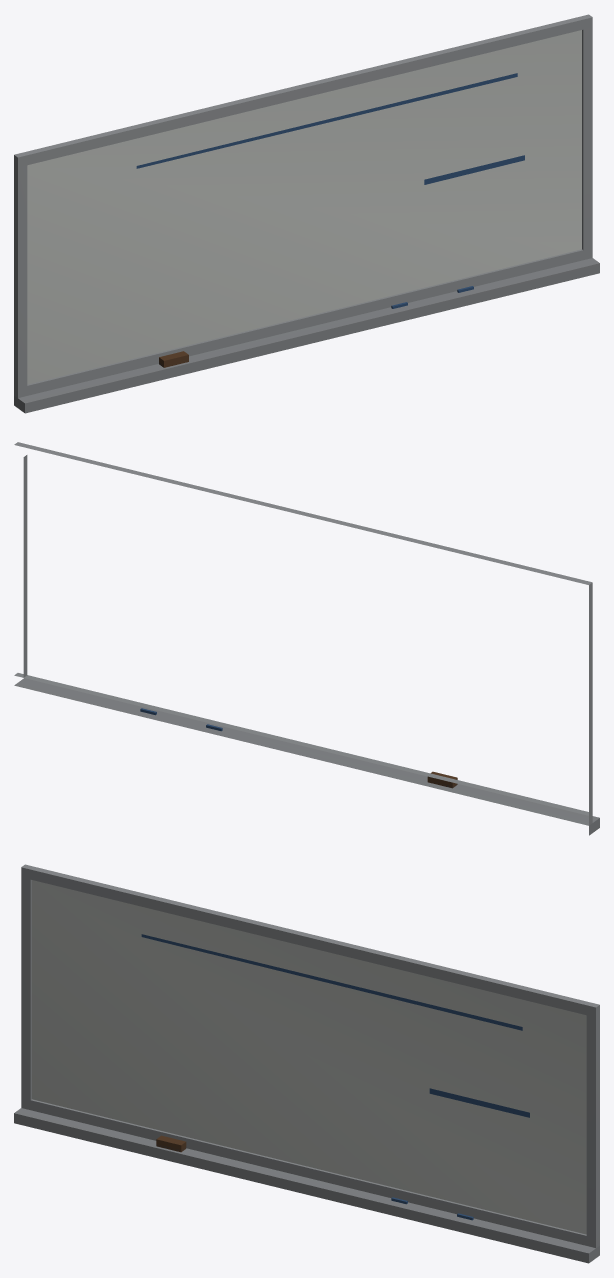
File: board.chalk.white.glb
3 views of the same model, one above another, from view 1: azimuth 30°, elevation 25°; view 2: azimuth 150°, elevation 25°; view 3: azimuth 330°, elevation 25° (orthographic).
Visible parts, largest first — view 1: board_chalk_white; view 2: board_chalk_white; view 3: board_chalk_white.
Part boxes in pixels (x1,y1,x2,y2): board_chalk_white: [14, 14, 599, 413]; board_chalk_white: [14, 442, 599, 835]; board_chalk_white: [14, 864, 599, 1263].
Size of what is drawn, in the model's own units: 3 by 1.25 by 0.1.
